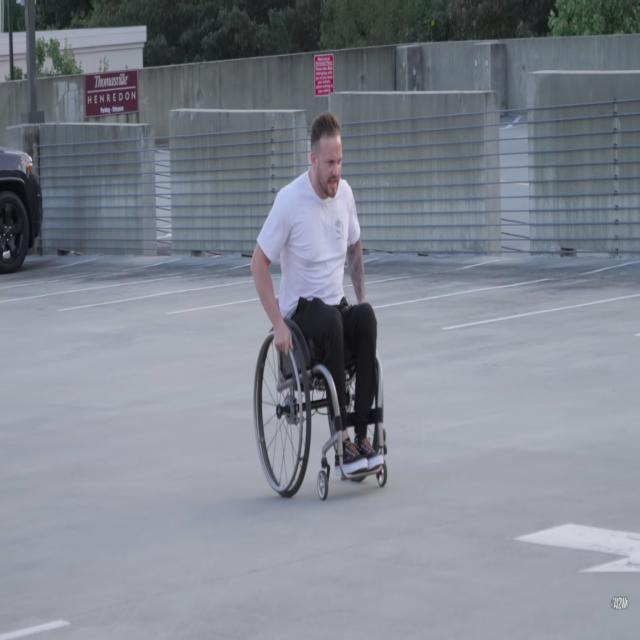wheelchairs: (249, 325, 392, 493)
